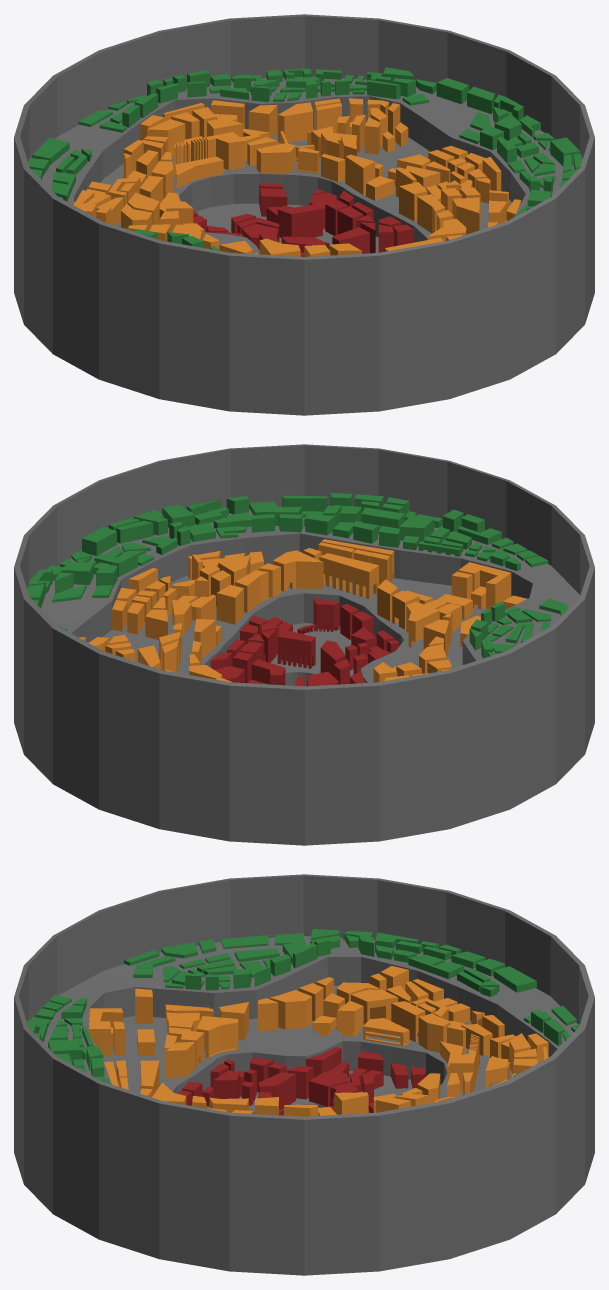
File: M_Bowl.fbx
3 renders of one model, top to bottom at view 1: azimuth 30°, elevation 25°; view 2: azimuth 150°, elevation 25°; view 3: azimuth 270°, elevation 25°, orthographic.
Parts seen in each view (by area): view 1: M_New_Bowl, M_Buildings_Third_Floor.026, M_Buildings_Second_Floor.063, M_Buildings_Second_Floor.046, M_Buildings_Second_Floor.047, M_Buildings_Second_Floor.043, M_Buildings_Second_Floor.050, M_Buildings_Second_Floor.052, M_Buildings_Second_Floor.104, M_Buildings_Second_Floor.021, M_Buildings_Second_Floor.062, M_Buildings_Second_Floor.111 (+18 smaller); view 2: M_New_Bowl, M_Buildings_Second_Floor.117, M_Buildings_Second_Floor.112, M_Buildings_Second_Floor.001, M_Buildings_Third_Floor.015, M_Buildings_Third_Floor.001, M_Buildings_Second_Floor.084, M_Buildings_Second_Floor.014, M_Buildings_Second_Floor.111, M_Buildings_First_Floor.114, M_Buildings_Third_Floor_To_Fix, M_Buildings_Third_Floor.026 (+19 smaller); view 3: M_New_Bowl, M_Buildings_Second_Floor.021, M_Buildings_Second_Floor.014, M_Buildings_Second_Floor.017, M_Buildings_Third_Floor_To_Fix, M_Buildings_Second_Floor.001, M_Buildings_Second_Floor.023, M_Buildings_Second_Floor.013, M_Buildings_Second_Floor.025, M_Buildings_Second_Floor.039, M_Buildings_Third_Floor.013, M_Buildings_Third_Floor.041 (+14 smaller).
Boxes of the visible parts, bbox=[...] form: M_New_Bowl: bbox=[14, 14, 594, 415]; M_Buildings_Third_Floor.026: bbox=[277, 204, 322, 237]; M_Buildings_Second_Floor.063: bbox=[278, 102, 312, 142]; M_Buildings_Second_Floor.046: bbox=[205, 132, 244, 169]; M_Buildings_Second_Floor.047: bbox=[256, 143, 295, 173]; M_Buildings_Second_Floor.043: bbox=[175, 156, 223, 188]; M_Buildings_Second_Floor.050: bbox=[345, 154, 375, 194]; M_Buildings_Second_Floor.052: bbox=[144, 119, 185, 155]; M_Buildings_Second_Floor.104: bbox=[452, 197, 479, 234]; M_Buildings_Second_Floor.021: bbox=[160, 201, 204, 238]; M_Buildings_Second_Floor.062: bbox=[248, 104, 277, 138]; M_Buildings_Second_Floor.111: bbox=[417, 194, 445, 233]; M_New_Bowl: bbox=[14, 444, 594, 845]; M_Buildings_Second_Floor.117: bbox=[319, 553, 378, 599]; M_Buildings_Second_Floor.112: bbox=[273, 550, 323, 591]; M_Buildings_Second_Floor.001: bbox=[458, 562, 511, 609]; M_Buildings_Third_Floor.015: bbox=[277, 630, 315, 668]; M_Buildings_Third_Floor.001: bbox=[297, 598, 339, 634]; M_Buildings_Second_Floor.084: bbox=[216, 585, 243, 624]; M_Buildings_Second_Floor.014: bbox=[406, 601, 439, 647]; M_Buildings_Second_Floor.111: bbox=[235, 570, 268, 612]; M_Buildings_First_Floor.114: bbox=[82, 526, 116, 555]; M_Buildings_Third_Floor_To_Fix: bbox=[345, 627, 381, 670]; M_Buildings_Third_Floor.026: bbox=[251, 659, 285, 685]; M_New_Bowl: bbox=[14, 874, 594, 1275]; M_Buildings_Second_Floor.021: bbox=[312, 993, 363, 1036]; M_Buildings_Second_Floor.014: bbox=[196, 1016, 238, 1057]; M_Buildings_Second_Floor.017: bbox=[269, 990, 311, 1029]; M_Buildings_Third_Floor_To_Fix: bbox=[213, 1069, 256, 1106]; M_Buildings_Second_Floor.001: bbox=[88, 1008, 122, 1056]; M_Buildings_Second_Floor.023: bbox=[351, 989, 398, 1024]; M_Buildings_Second_Floor.013: bbox=[165, 1042, 194, 1078]; M_Buildings_Second_Floor.025: bbox=[363, 1018, 409, 1046]; M_Buildings_Second_Floor.039: bbox=[418, 1013, 450, 1052]; M_Buildings_Third_Floor.013: bbox=[258, 1072, 295, 1109]; M_Buildings_Third_Floor.041: bbox=[309, 1072, 348, 1106].
Size of the model in its own units: 50400 by 14989 by 50400.
